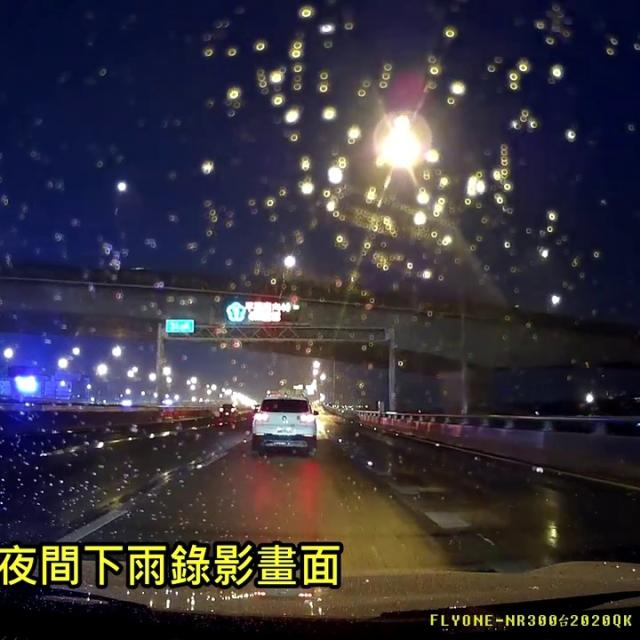Car: (248, 392, 318, 454), (216, 401, 235, 416)
